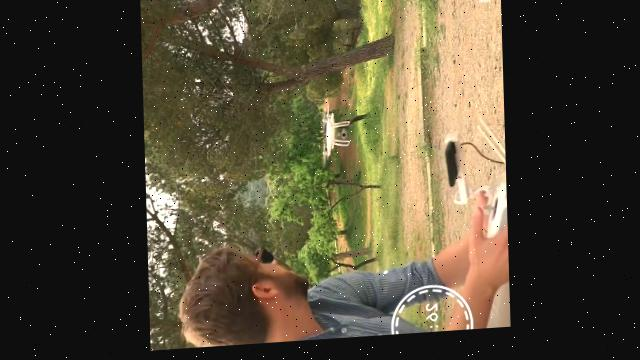drone: (318, 105, 349, 172)
